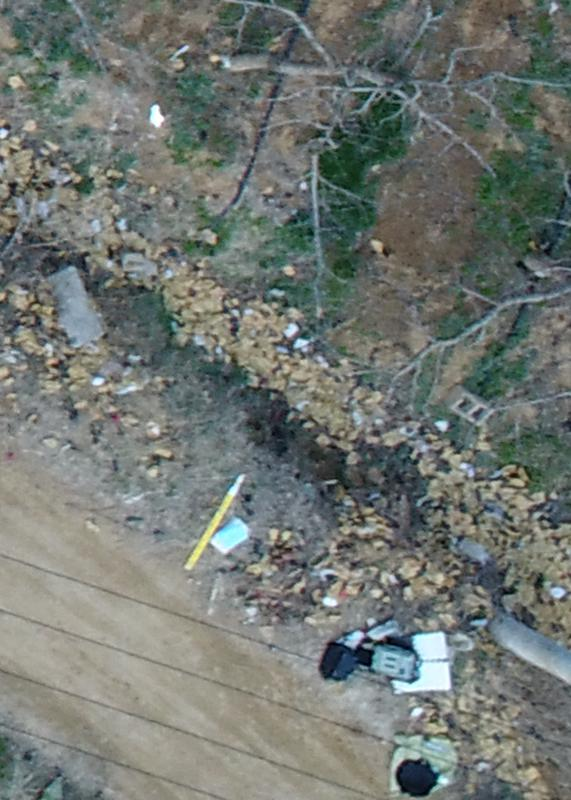apple: (190, 10, 561, 137)
